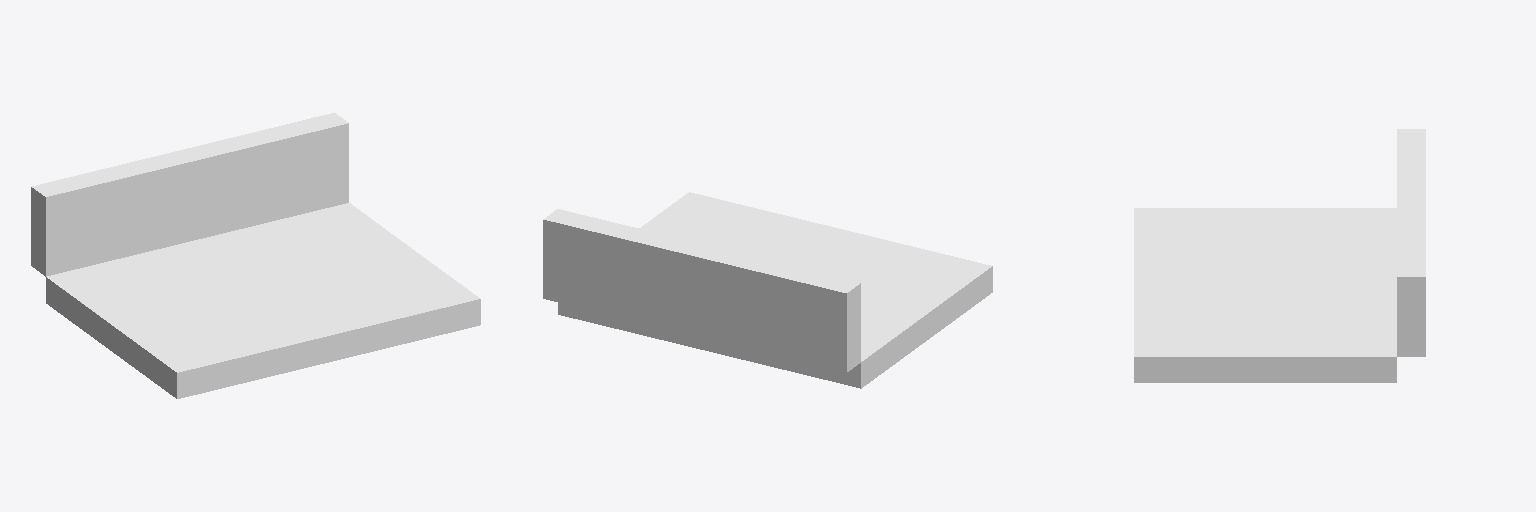
File: order3.vox.obj
3 renders of one model, left to right at view 1: azimuth 30°, elevation 25°; view 2: azimuth 150°, elevation 25°; view 3: azimuth 270°, elevation 25°, orthographic.
Visible parts, largest first — view 1: object 1; view 2: object 1; view 3: object 1.
Part boxes in pixels (x1,y1,x2,y2): object 1: (31, 113, 480, 398); object 1: (543, 192, 992, 388); object 1: (1134, 129, 1425, 382).
Bounding box in the file's own units: 24 × 8 × 20.